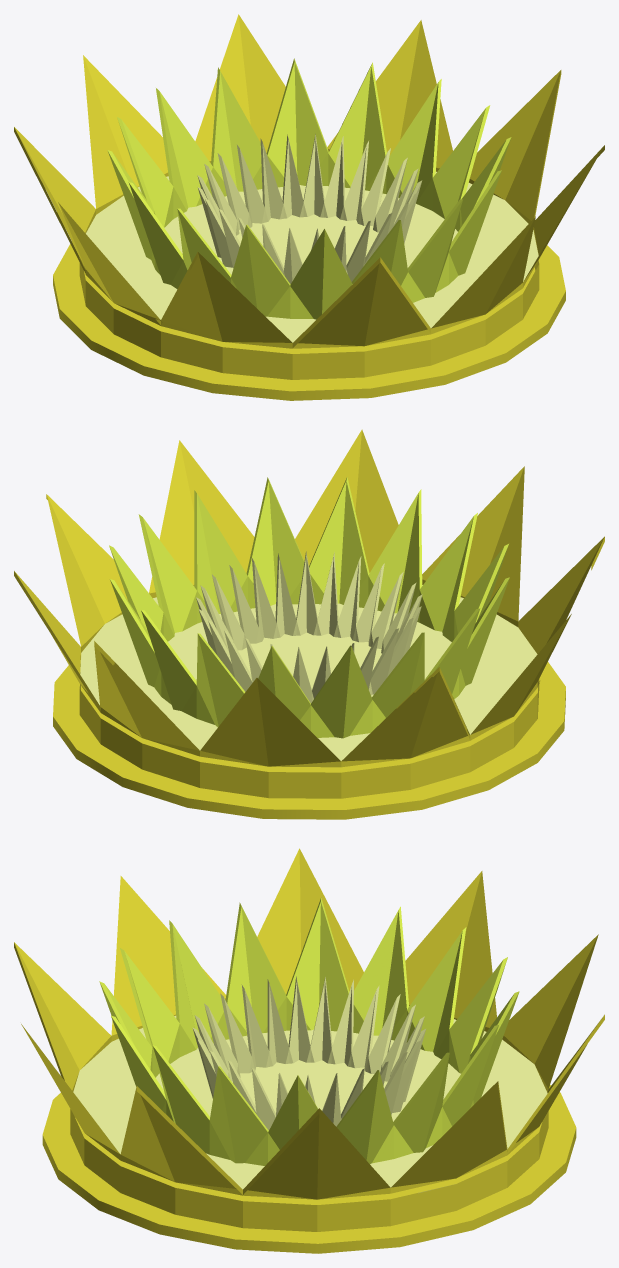
Rendered from portal_abrir_000008.obj.
3 views of the same model, one above another, from view 1: azimuth 30°, elevation 25°; view 2: azimuth 150°, elevation 25°; view 3: azimuth 270°, elevation 25° (orthographic). The views are drawn at different scales.
Parts seen in each view (by area): view 1: pCylinder1, Cylinder, Cylinder.001; view 2: pCylinder1, Cylinder, Cylinder.001; view 3: pCylinder1, Cylinder, Cylinder.001.
Part boxes in pixels (x1,y1,x2,y2): pCylinder1: (14, 14, 604, 400); Cylinder: (107, 58, 511, 319); Cylinder.001: (197, 134, 422, 283); pCylinder1: (14, 429, 604, 819); Cylinder: (109, 477, 509, 738); Cylinder.001: (196, 551, 422, 703); pCylinder1: (14, 848, 604, 1253); Cylinder: (99, 897, 519, 1165); Cylinder.001: (192, 976, 425, 1130).
Bounding box in the file's own units: 2.24 × 0.6543 × 2.15.
4 materials, 4 textured.
